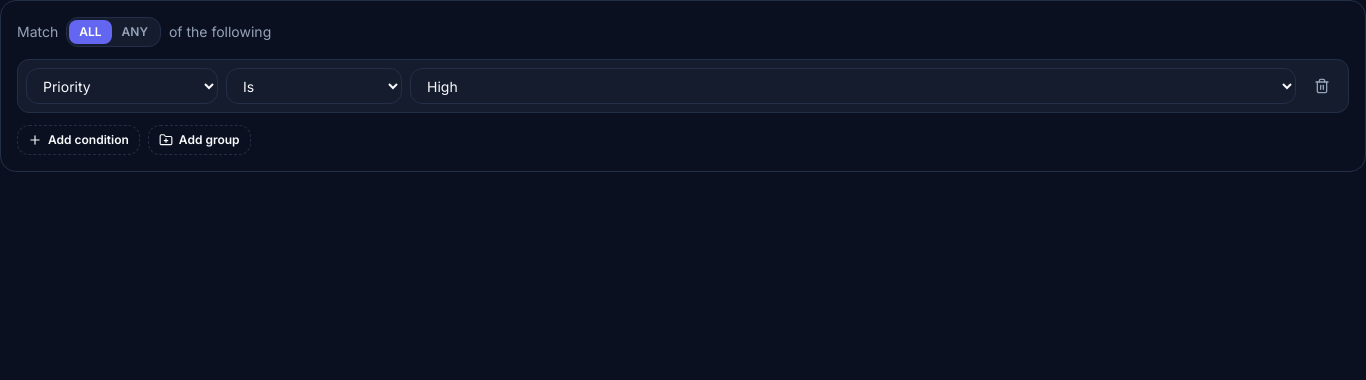
Test: ConditionBuilder › removing a group removes its conditions
The image size is (1366, 380).
Click the button "Add group".
click(199, 140)  # box [148,125,250,155]
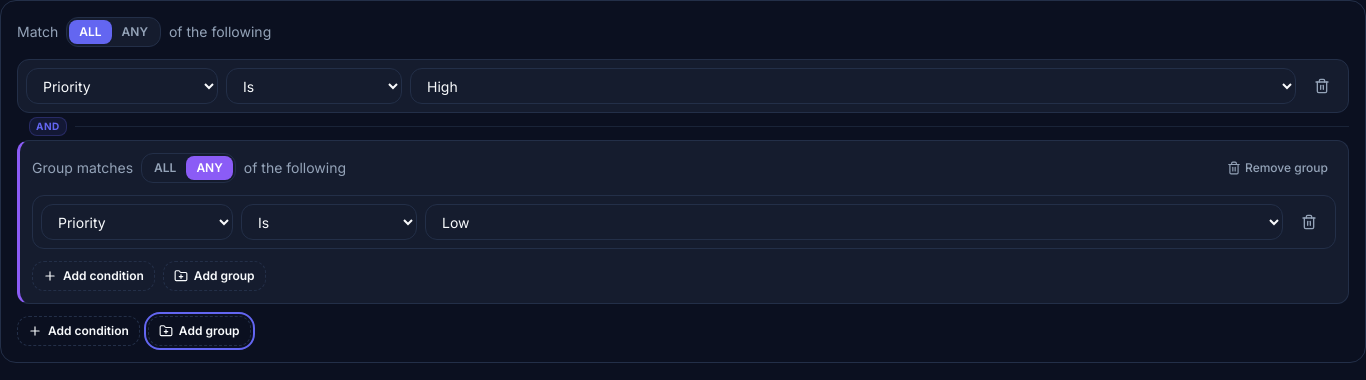
Click the button "Remove group".
click(1278, 168)  # box [1219,156,1336,180]
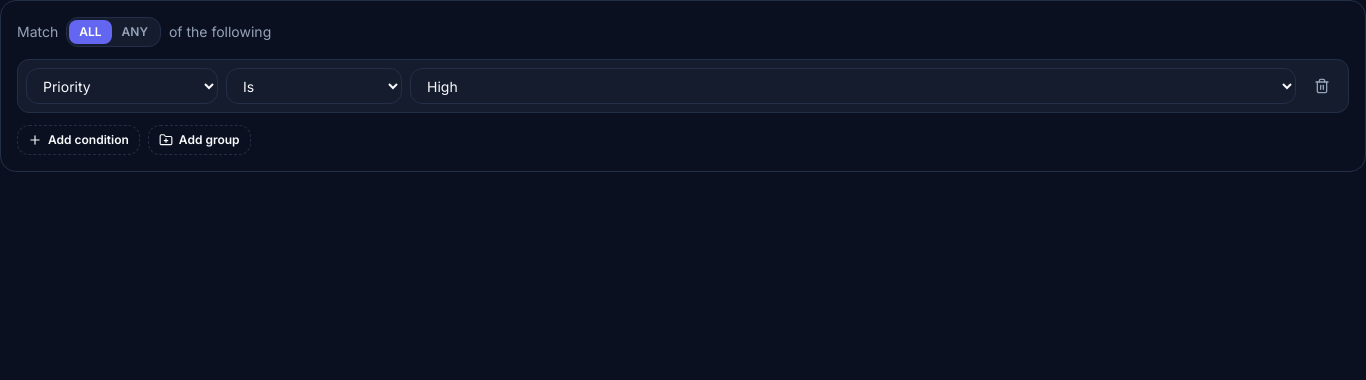
Expected: the element with test id "condition-group" is gone
